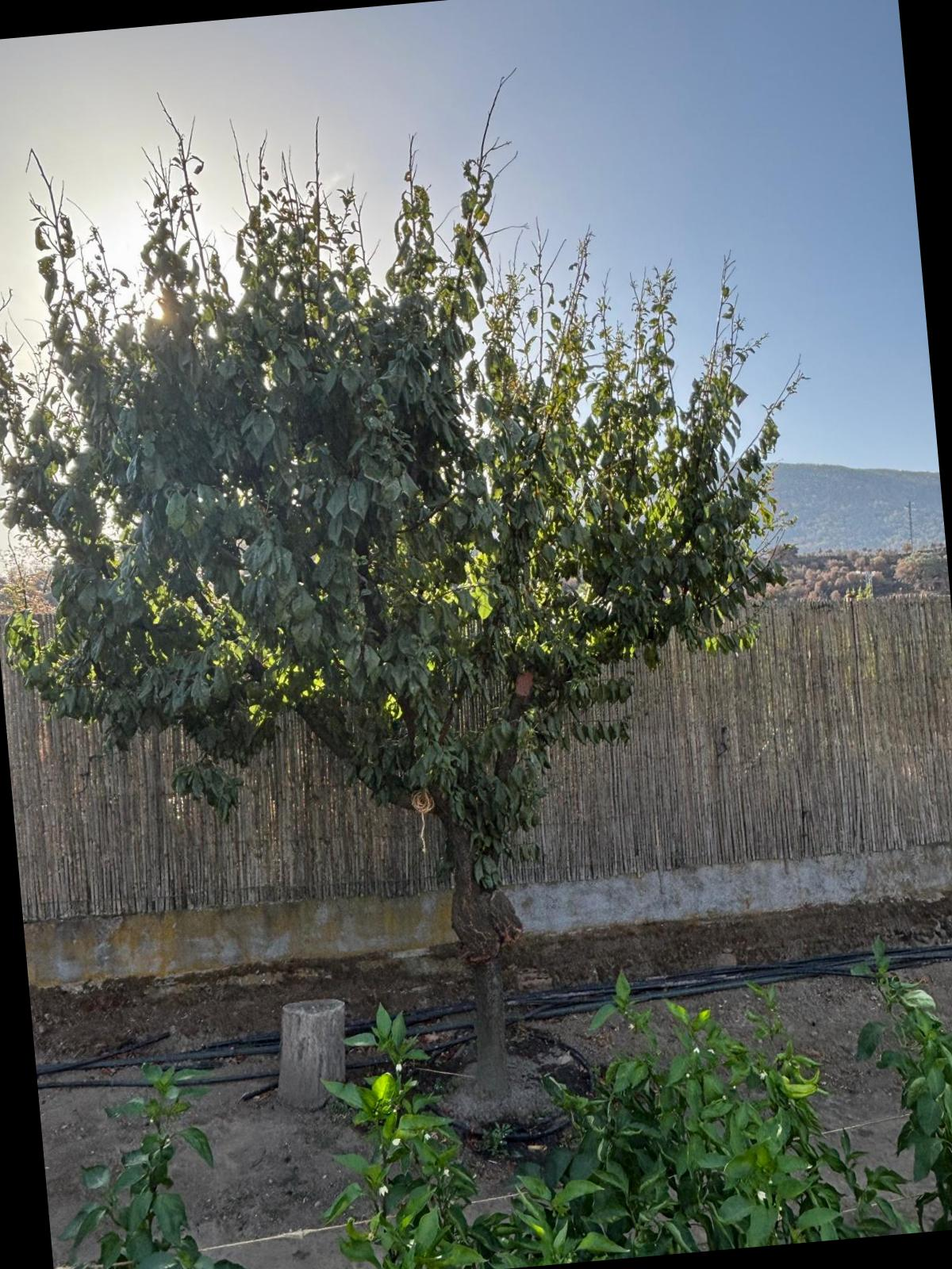ciruelo: (31, 225, 715, 1093)
